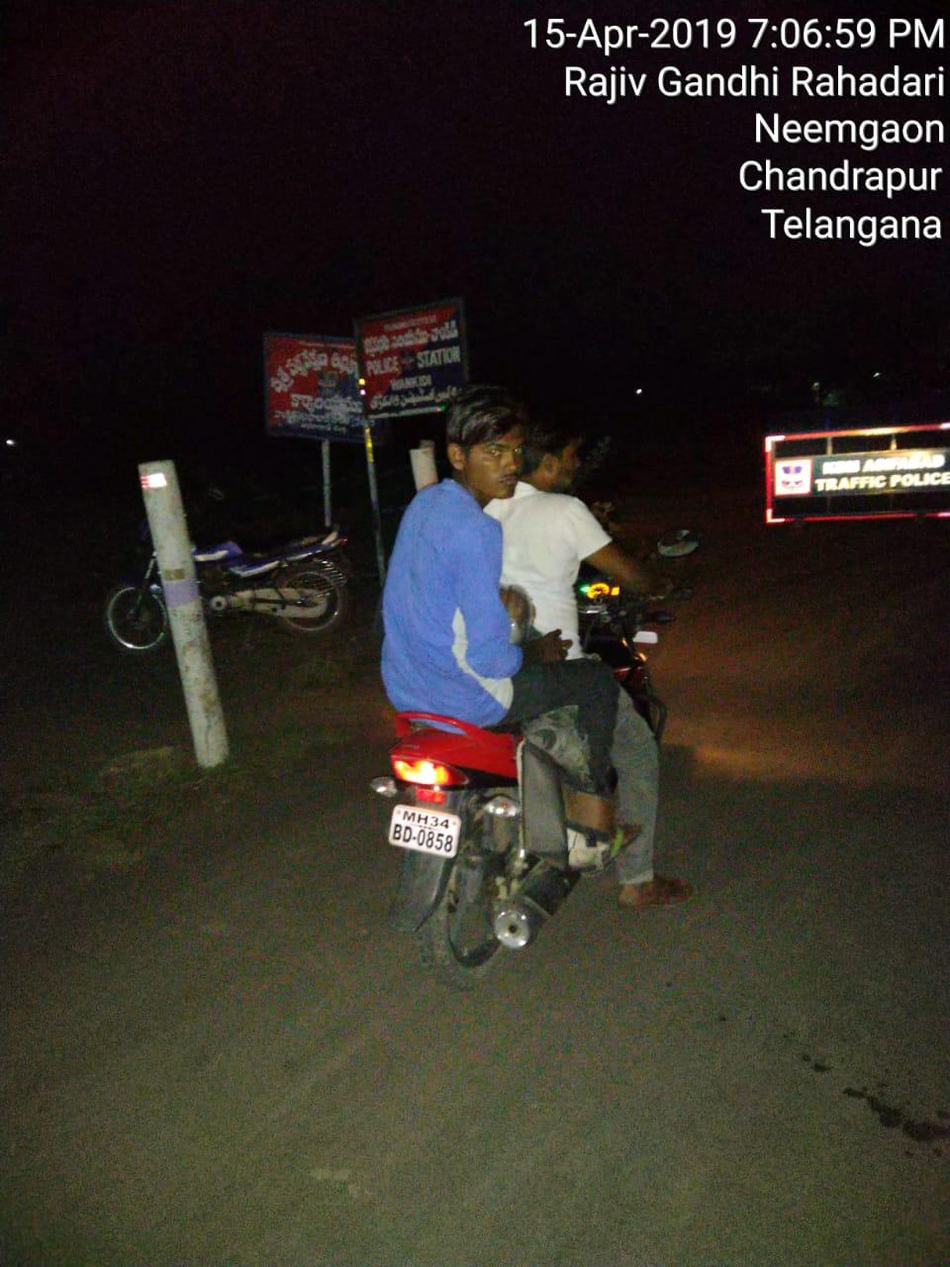plate: (371, 791, 481, 879)
